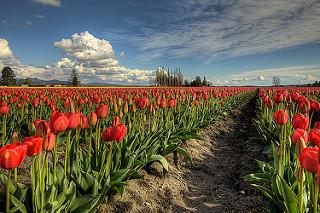tulip: (0, 142, 27, 168), (298, 147, 320, 172), (31, 120, 50, 139), (24, 137, 44, 155), (51, 114, 67, 132), (110, 123, 126, 141), (293, 113, 308, 129), (66, 111, 80, 128), (273, 110, 289, 124), (291, 129, 307, 142), (98, 104, 109, 117), (143, 142, 144, 142)
